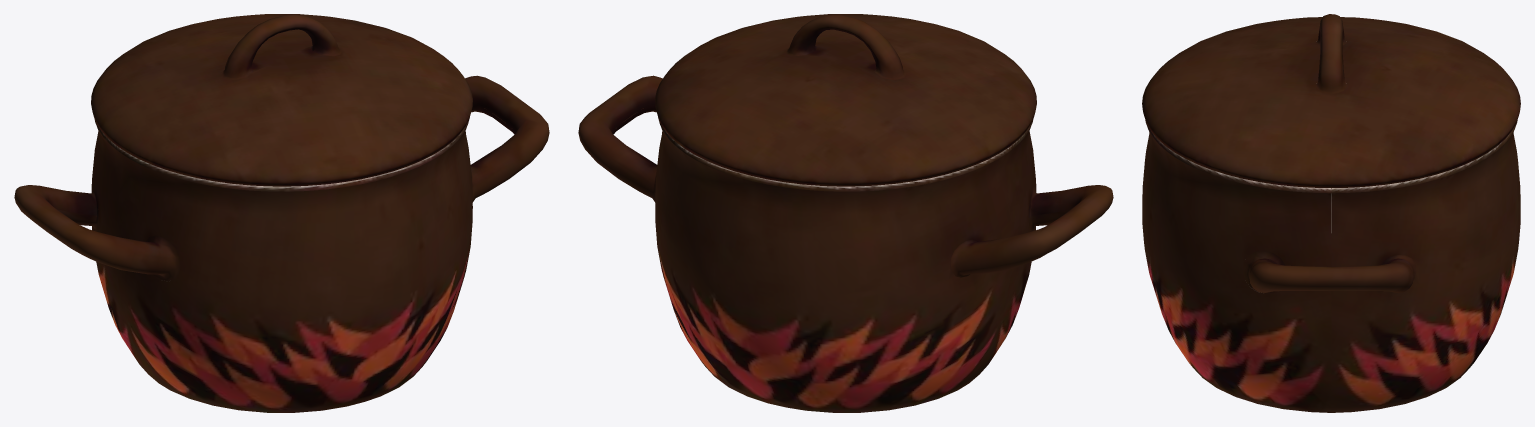
File: pot_enamel_01.glb
The picture shows the model from 3 angles, left to right: view 1: azimuth 30°, elevation 25°; view 2: azimuth 150°, elevation 25°; view 3: azimuth 270°, elevation 25°; orthographic projection.
Visible parts, largest first — view 1: pot_enamel_01_base, pot_enamel_01_lid; view 2: pot_enamel_01_base, pot_enamel_01_lid; view 3: pot_enamel_01_base, pot_enamel_01_lid.
Part boxes in pixels (x1,y1,x2,y2): pot_enamel_01_base: (14,75,549,412); pot_enamel_01_lid: (91,14,472,186); pot_enamel_01_base: (578,75,1113,412); pot_enamel_01_lid: (655,14,1036,186); pot_enamel_01_base: (1142,120,1520,412); pot_enamel_01_lid: (1142,14,1520,188).
Bounding box in the file's own units: 0.2629 × 0.1782 × 0.1805.
Materials: 1 (1 with a texture image).
